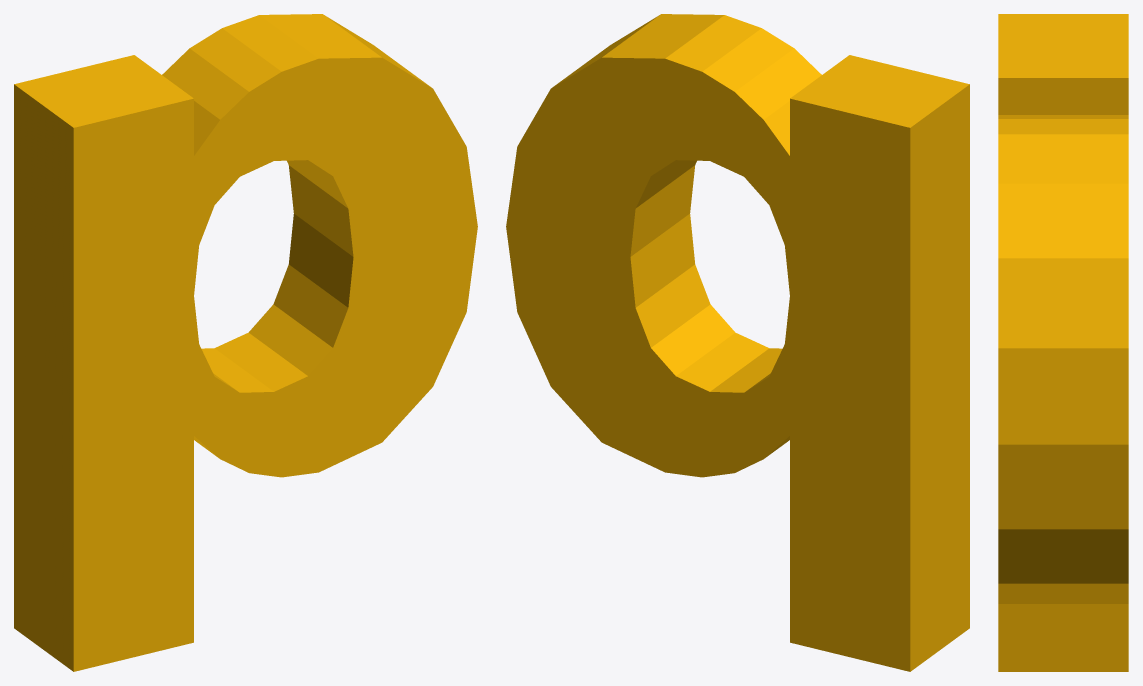
The model's file is huruf_kecil_p.glb.
3 views of the same model, side by side, from view 1: azimuth 30°, elevation 25°; view 2: azimuth 150°, elevation 25°; view 3: azimuth 270°, elevation 25° (orthographic). The views are drawn at different scales.
Visible parts, largest first — view 1: geometry_0; view 2: geometry_0; view 3: geometry_0.
Part boxes in pixels (x1,y1,x2,y2): geometry_0: (14, 14, 477, 671); geometry_0: (506, 14, 969, 671); geometry_0: (998, 14, 1128, 671).
Bounding box in the file's own units: 5.87 × 7.68 × 1.5.
